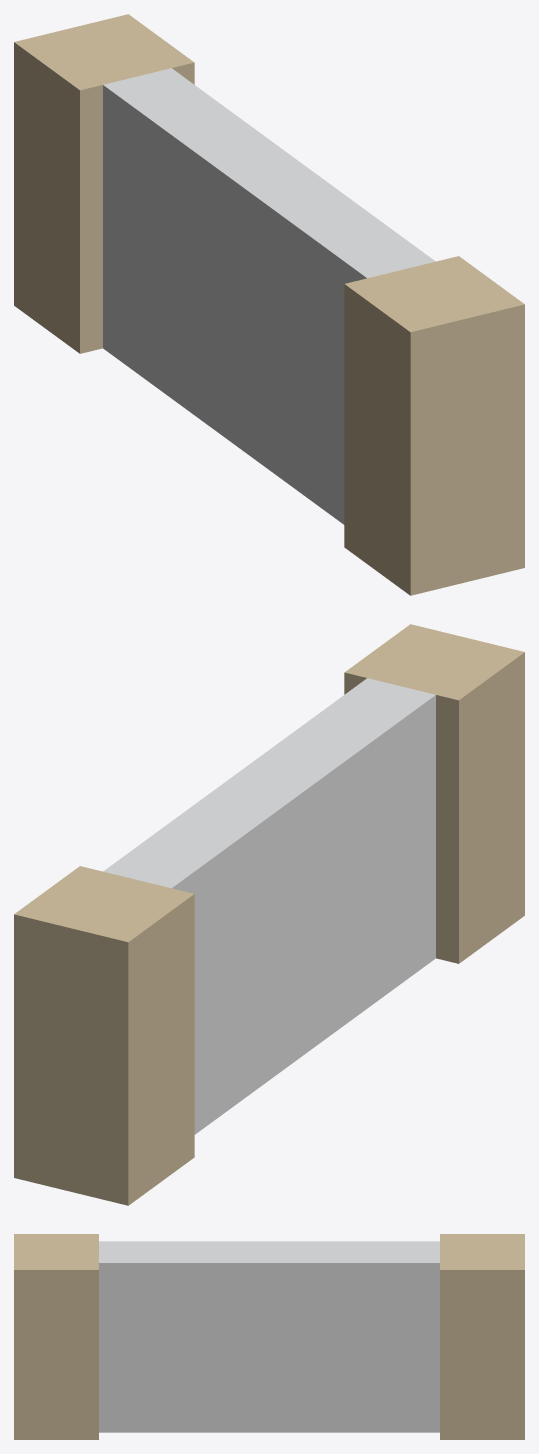
File: Wood_Small_Wall_01.glb
The picture shows the model from 3 angles, top to bottom: view 1: azimuth 30°, elevation 25°; view 2: azimuth 150°, elevation 25°; view 3: azimuth 270°, elevation 25°; orthographic projection. The views are drawn at different scales.
Visible parts, largest first — view 1: Mesh1 Wood_Small_Wall Model; view 2: Mesh1 Wood_Small_Wall Model; view 3: Mesh1 Wood_Small_Wall Model.
Boxes of the visible parts, bbox=[...] form: Mesh1 Wood_Small_Wall Model: bbox=[14, 14, 524, 595]; Mesh1 Wood_Small_Wall Model: bbox=[14, 624, 524, 1205]; Mesh1 Wood_Small_Wall Model: bbox=[14, 1234, 524, 1439].
Bounding box in the file's own units: 0.5 × 1.1 × 3.
